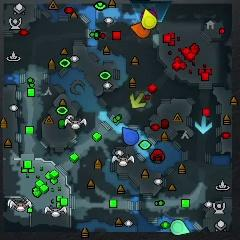p1: (122, 128, 139, 146)
p2: (171, 219, 189, 235)
p3: (141, 8, 157, 17)
p4: (141, 9, 157, 29)
p5: (130, 22, 151, 38)
x2: (130, 92, 146, 108)
x3: (195, 116, 213, 133)
